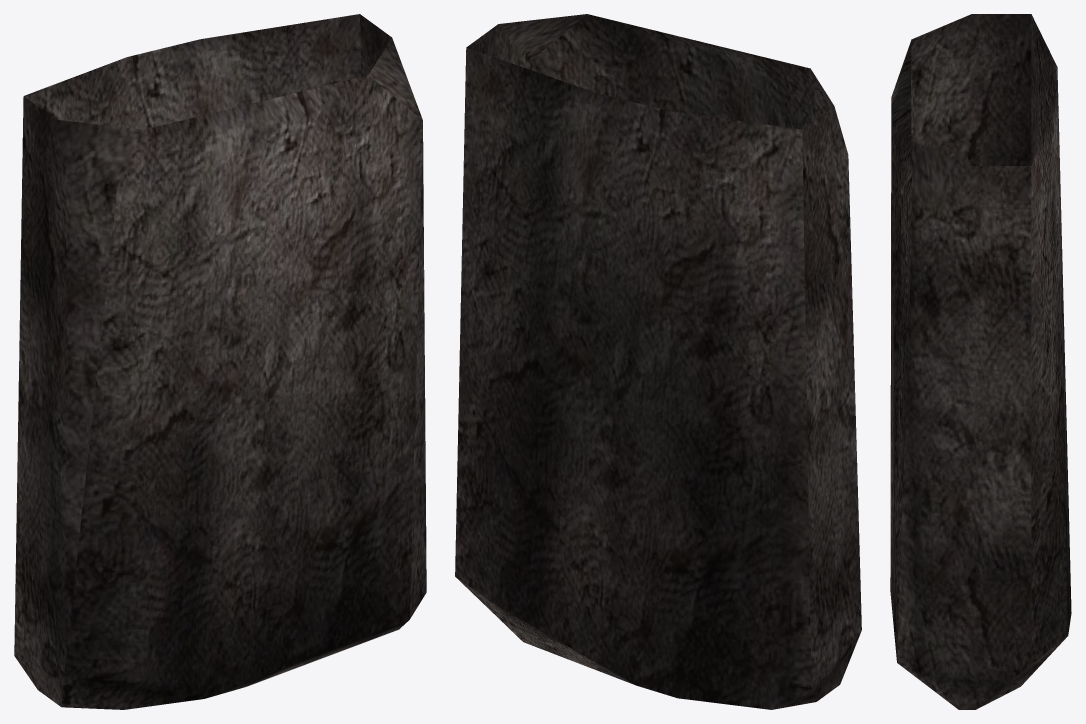
The model's file is ORC_MOVER_01_3X5XM.glb.
3 views of the same model, side by side, from view 1: azimuth 30°, elevation 25°; view 2: azimuth 150°, elevation 25°; view 3: azimuth 270°, elevation 25° (orthographic). The views are drawn at different scales.
Visible parts, largest first — view 1: Mesh; view 2: Mesh; view 3: Mesh.
Boxes of the visible parts, x1,y1,x2,y2 form: Mesh: (14,14,426,709); Mesh: (455,14,861,709); Mesh: (890,14,1071,709).
Bounding box in the file's own units: 3.18 × 5.09 × 1.51.
Materials: 1 (1 with a texture image).
